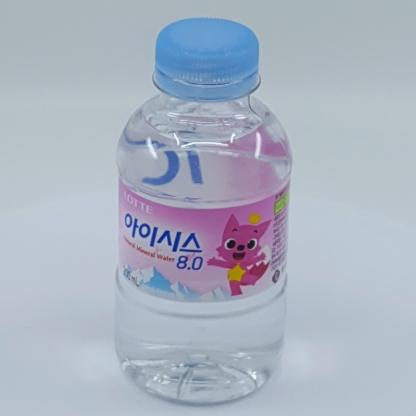------200ML: (114, 17, 293, 407)
